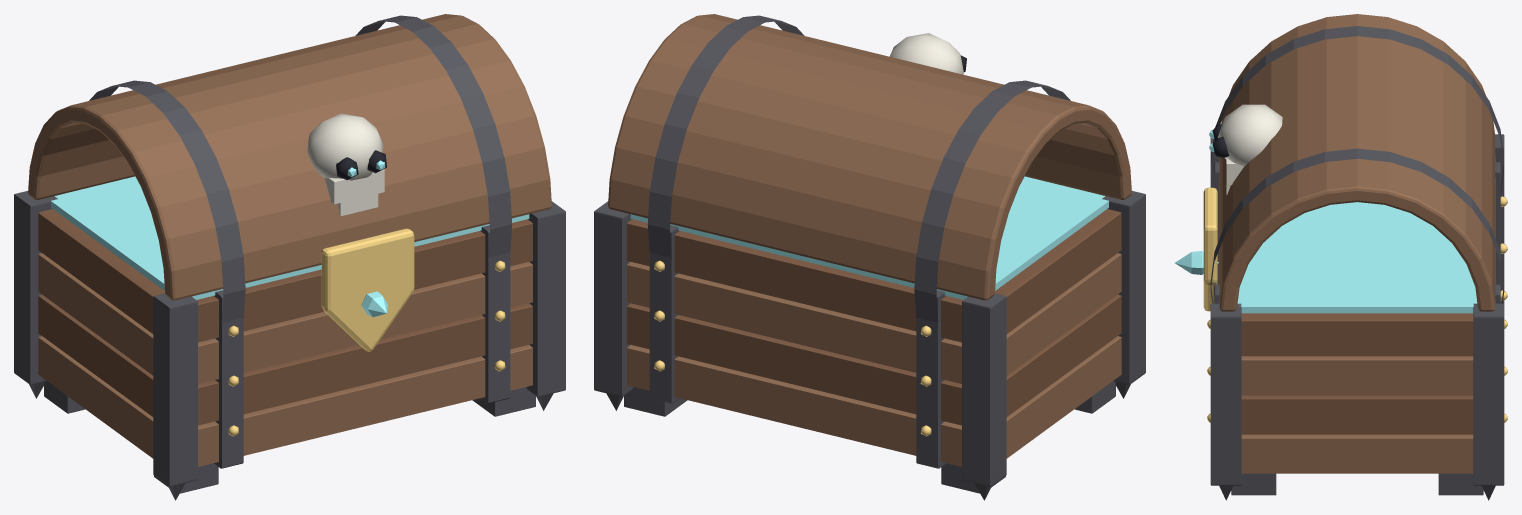
File: SH10_Pickup_Chest.fbx
The picture shows the model from 3 angles, left to right: view 1: azimuth 30°, elevation 25°; view 2: azimuth 150°, elevation 25°; view 3: azimuth 270°, elevation 25°; orthographic projection. The views are drawn at different scales.
Parts seen in each view (by area): view 1: Lid, Plank0, Plank1, Plank2, Plank3, Corner-1-1, LockPlate, SoulSeam, LidBand0.42, LidBand-0.42, Corner1-1, Corner-11 (+7 smaller); view 2: Lid, Plank3, Plank0, Plank2, Plank1, Corner-11, SoulSeam, LidBand0.42, LidBand-0.42, Corner11, Corner-1-1, Band0.42 (+5 smaller); view 3: Lid, SoulSeam, Plank3, Plank2, Plank0, Plank1, Corner1-1, Corner11, LidBand0.42, LidBand-0.42, Cranium, LockPlate (+5 smaller).
Part boxes in pixels (left/top/right/bottom): Lid: left=28, top=14, right=551, bottom=300; Plank0: left=38, top=336, right=532, bottom=466; Plank1: left=38, top=294, right=532, bottom=425; Plank2: left=38, top=253, right=532, bottom=383; Plank3: left=38, top=209, right=532, bottom=342; Corner-1-1: left=153, top=293, right=197, bottom=486; LockPlate: left=321, top=228, right=414, bottom=351; SoulSeam: left=51, top=176, right=529, bottom=299; LidBand0.42: left=355, top=15, right=512, bottom=259; LidBand-0.42: left=89, top=80, right=245, bottom=322; Corner1-1: left=526, top=201, right=565, bottom=396; Corner-11: left=14, top=191, right=57, bottom=384; Lid: left=608, top=14, right=1131, bottom=300; Plank3: left=627, top=209, right=1121, bottom=342; Plank0: left=627, top=336, right=1121, bottom=466; Plank2: left=627, top=253, right=1121, bottom=383; Plank1: left=627, top=294, right=1121, bottom=425; Corner-11: left=962, top=293, right=1006, bottom=486; SoulSeam: left=630, top=176, right=1108, bottom=299; LidBand0.42: left=647, top=15, right=804, bottom=259; LidBand-0.42: left=914, top=80, right=1070, bottom=322; Corner11: left=594, top=201, right=633, bottom=396; Corner-1-1: left=1102, top=191, right=1145, bottom=384; Band0.42: left=649, top=225, right=679, bottom=403; Lid: left=1219, top=14, right=1495, bottom=311; SoulSeam: left=1237, top=202, right=1477, bottom=313; Plank3: left=1219, top=156, right=1495, bottom=356; Plank2: left=1241, top=356, right=1473, bottom=395; Plank0: left=1241, top=434, right=1473, bottom=473; Plank1: left=1241, top=395, right=1473, bottom=434; Corner1-1: left=1210, top=303, right=1241, bottom=485; Corner11: left=1473, top=303, right=1504, bottom=485; LidBand0.42: left=1210, top=148, right=1504, bottom=303; LidBand-0.42: left=1210, top=26, right=1504, bottom=196; Cranium: left=1218, top=104, right=1282, bottom=166; LockPlate: left=1203, top=187, right=1217, bottom=311.
Bounding box in the file's own units: 1.25 × 1.04 × 0.9645.
